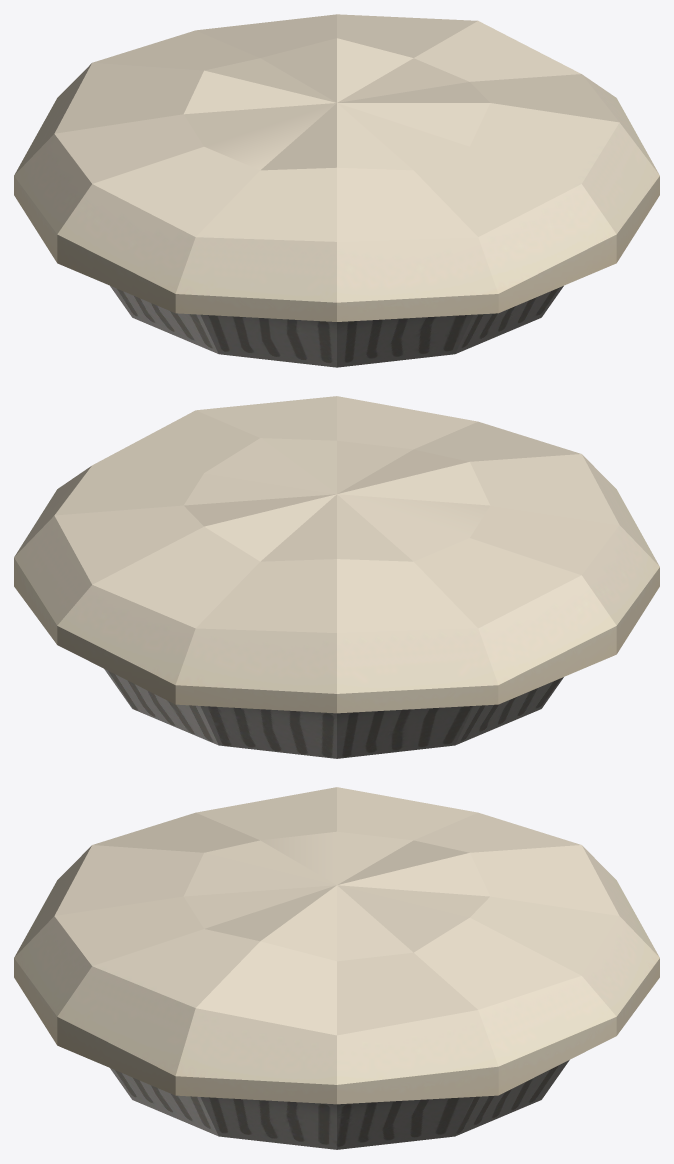
Rendered from Pie.glb.
3 views of the same model, one above another, from view 1: azimuth 30°, elevation 25°; view 2: azimuth 150°, elevation 25°; view 3: azimuth 270°, elevation 25° (orthographic).
Parts seen in each view (by area): view 1: Pie; view 2: Pie; view 3: Pie.
Part boxes in pixels (<box>): Pie: <box>14,14,659,367</box>; Pie: <box>14,396,659,758</box>; Pie: <box>14,787,659,1149</box>.
Bounding box in the file's own units: 4.49 × 1.26 × 4.49.
Materials: 1 (1 with a texture image).
